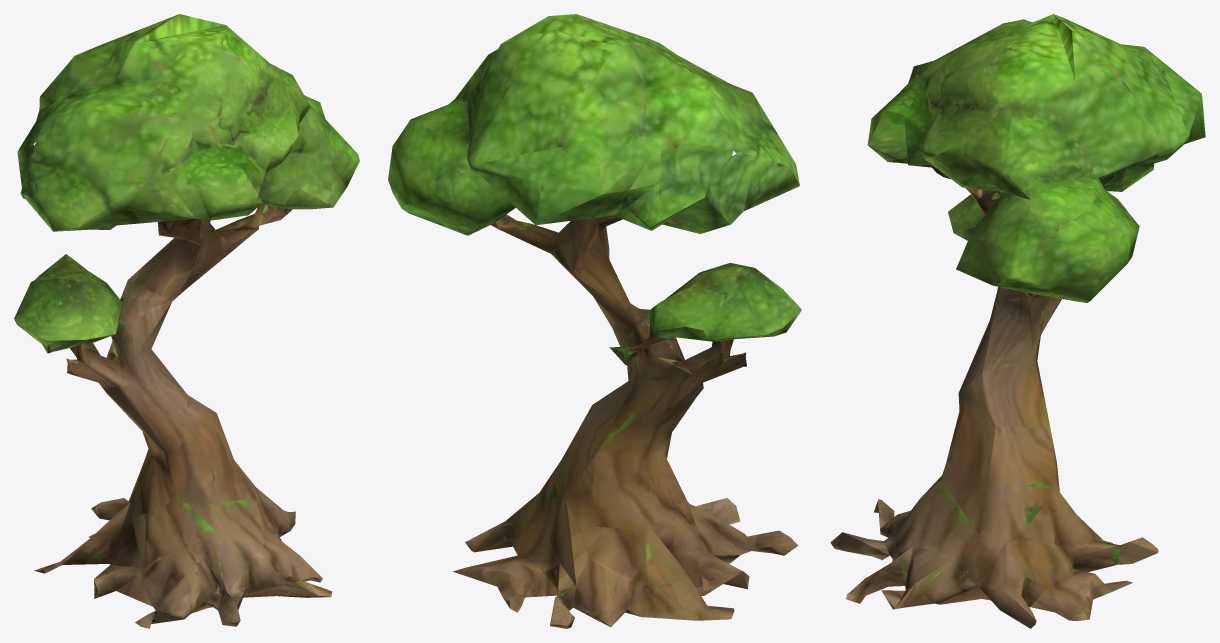
File: veg_old_tree.glb
3 renders of one model, left to right at view 1: azimuth 30°, elevation 25°; view 2: azimuth 150°, elevation 25°; view 3: azimuth 270°, elevation 25°, orthographic. The views are drawn at different scales.
Visible parts, largest first — view 1: Old tree; view 2: Old tree; view 3: Old tree.
Part boxes in pixels (left/top/right/bottom): Old tree: left=14, top=14, right=359, bottom=628; Old tree: left=388, top=14, right=801, bottom=628; Old tree: left=830, top=14, right=1205, bottom=628.
Size of the model in its own units: 1.34 by 1.98 by 1.22.
1 material, 1 textured.
